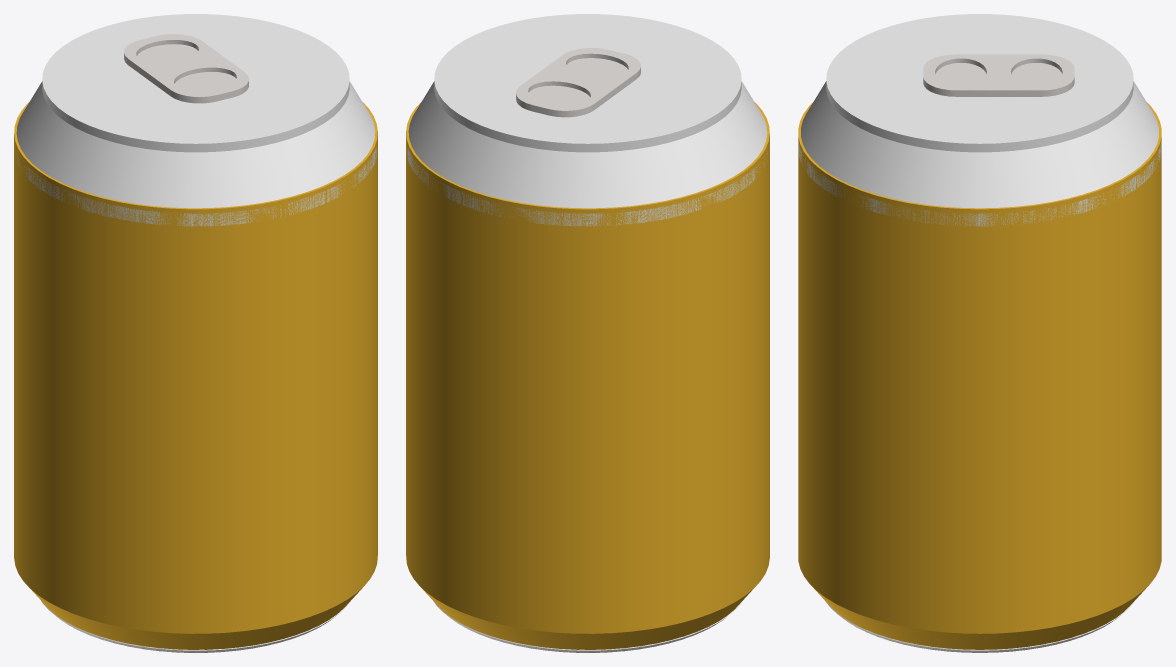
3 views of the same model, side by side, from view 1: azimuth 30°, elevation 25°; view 2: azimuth 150°, elevation 25°; view 3: azimuth 270°, elevation 25° (orthographic).
Visible parts, largest first — view 1: can; view 2: can; view 3: can.
Part boxes in pixels (x1,y1,x2,y2): can: (14,14,377,652); can: (406,14,769,652); can: (798,14,1161,652).
Size of the model in its own units: 0.0769 by 0.12 by 0.0768.
